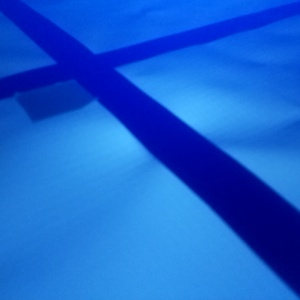bottom_right: (67, 72, 158, 131)
top_left: (49, 27, 129, 69)
